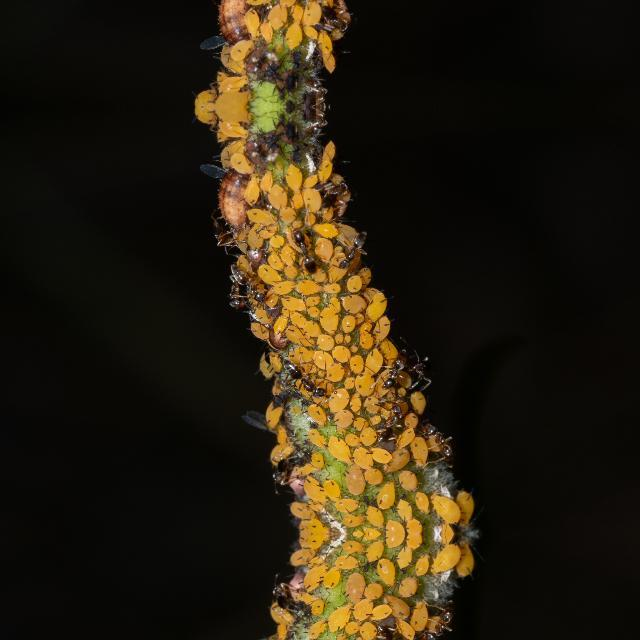Tapinoma: (268, 354, 336, 404), (280, 222, 326, 276), (413, 418, 461, 466), (330, 228, 376, 272), (366, 402, 410, 448), (413, 600, 461, 640), (400, 339, 432, 397), (235, 256, 273, 302), (370, 349, 408, 389), (312, 180, 350, 217), (312, 0, 348, 32), (366, 618, 410, 640)
